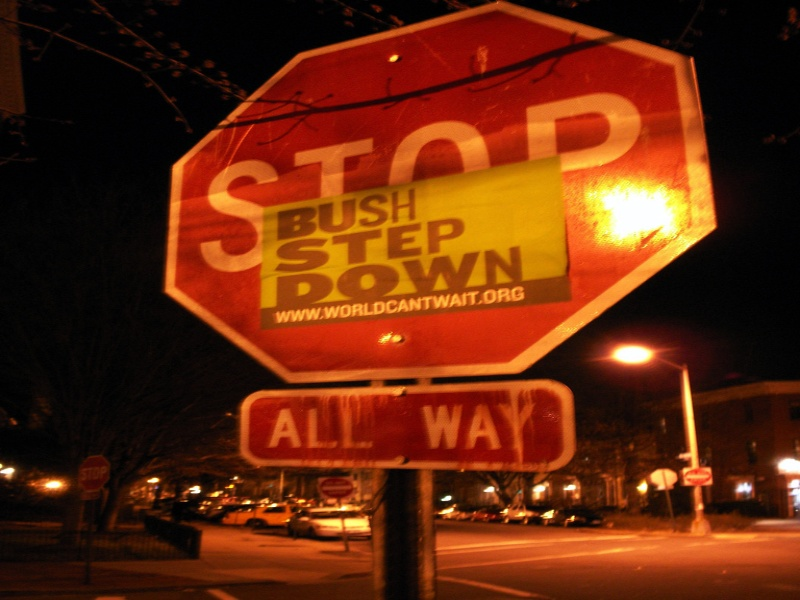stop: (160, 3, 737, 384)
